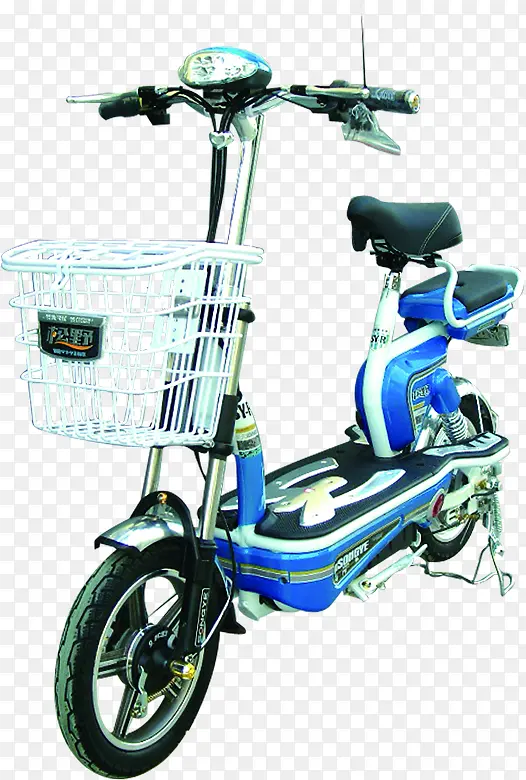MNV: (18, 43, 519, 780)
